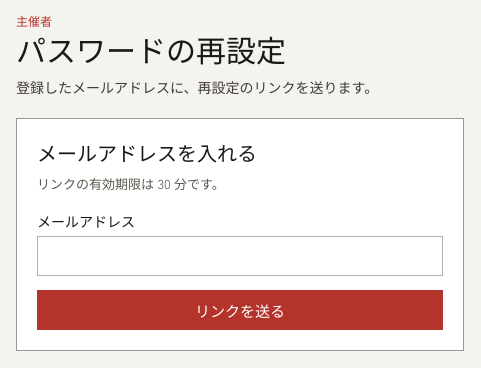
Test: メールアドレスの依頼 › 送ると「リンクを送りました」に切り替わり、共通文面を二重に出さない
Type "taro@example.com" into the field labelled "メールアドレス" at {"x": 240, "y": 256}, box [37,236,443,276]
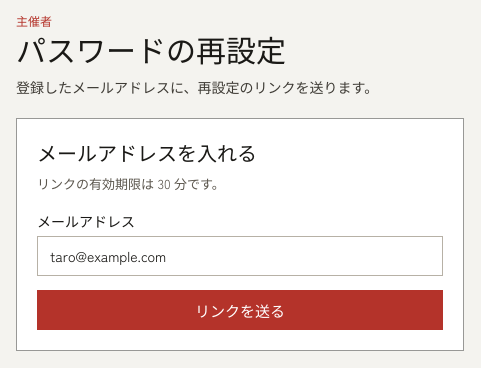
Click the button "リンクを送る" at {"x": 240, "y": 310}, box [37,290,443,330]
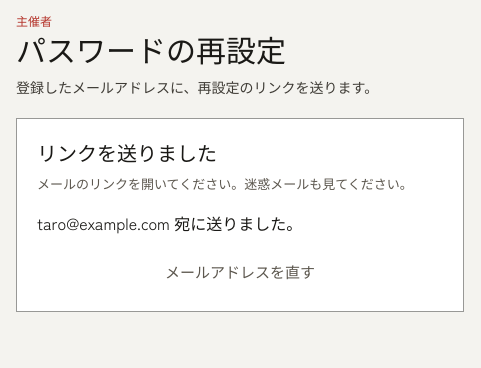
Check: the number of headings "リンクを送りました" is 1, box [37,138,217,167]
Check: the heading "リンクを送りました" is shown, box [37,138,217,167]
Check: the text "taro@example.com 宛に送りました。" is shown, box [37,211,302,235]
